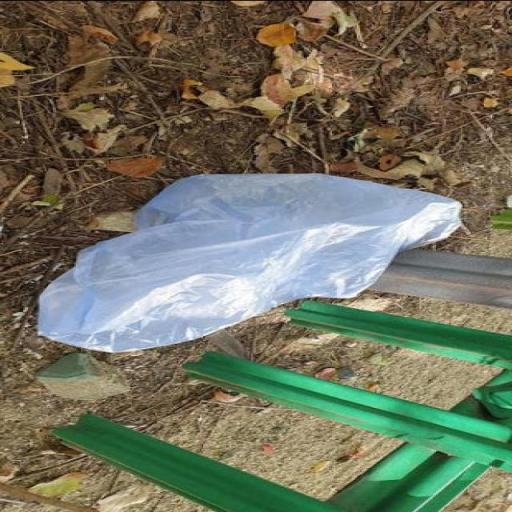plastic-bag: (36, 171, 466, 354)
